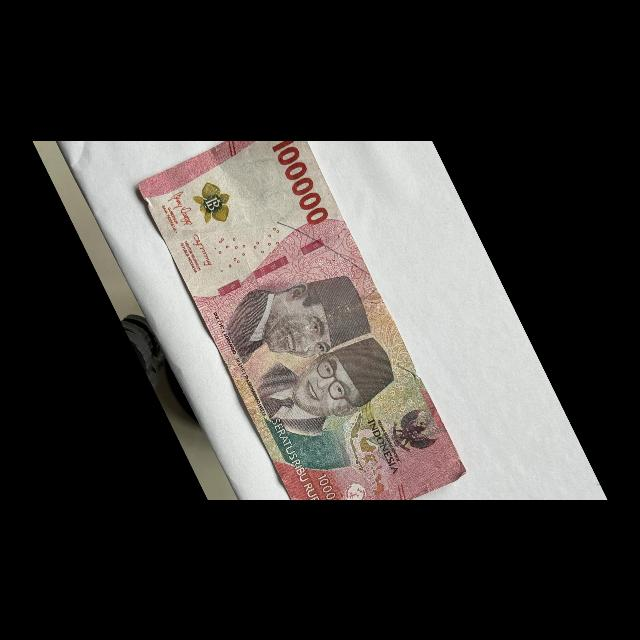Palsu-100k: (126, 94, 474, 558)
Tinta-Palsu-100k: (188, 175, 239, 230)
